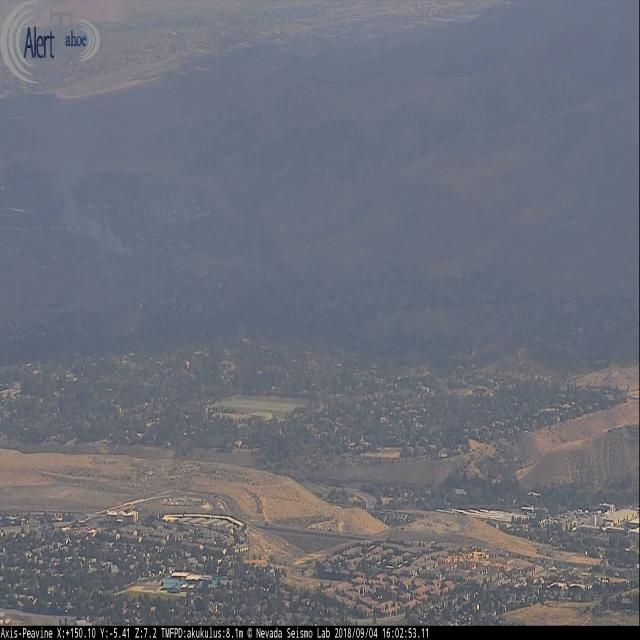smoke: (60, 176, 134, 254)
